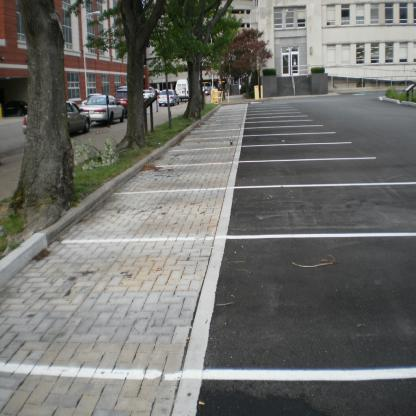Car: (23, 100, 88, 132), (80, 94, 126, 123), (159, 88, 179, 106), (115, 90, 127, 118)
